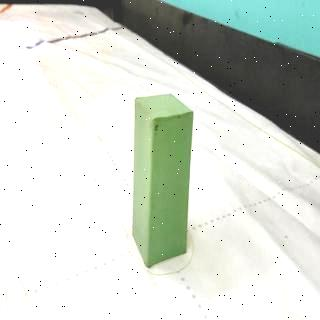greenbox: (130, 93, 196, 267)
